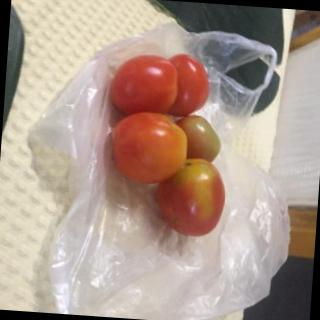Tomat: (86, 40, 256, 255)
